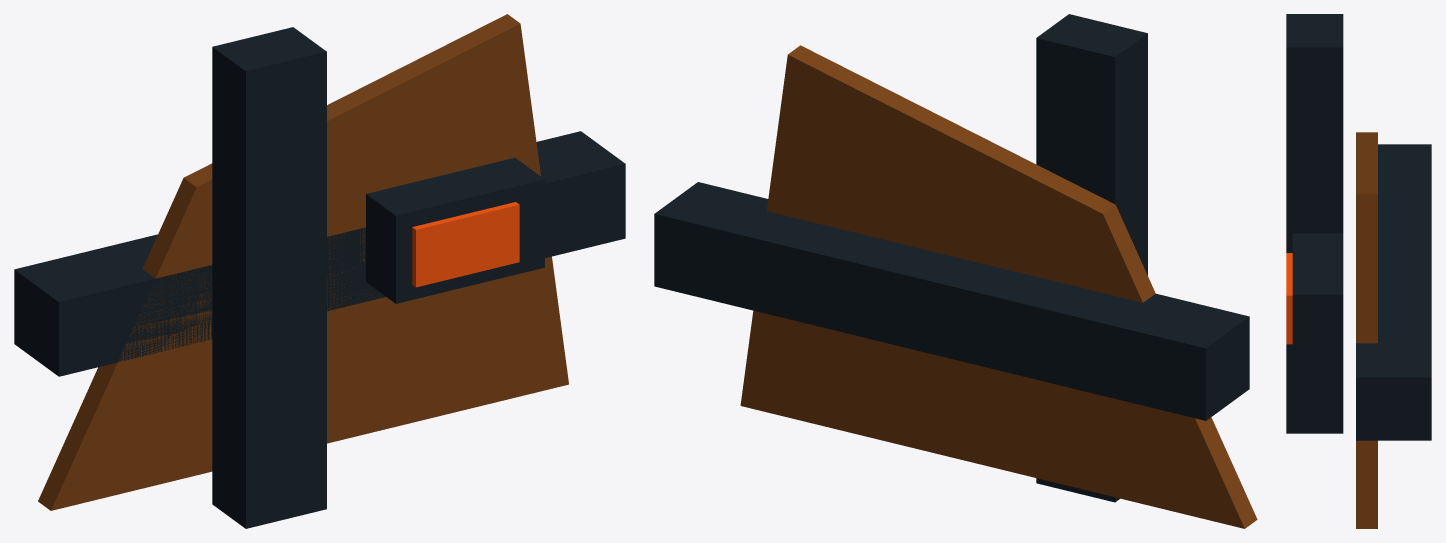
The model's file is SM_Debris.obj.
The picture shows the model from 3 angles, left to right: view 1: azimuth 30°, elevation 25°; view 2: azimuth 150°, elevation 25°; view 3: azimuth 270°, elevation 25°; orthographic projection. The views are drawn at different scales.
Visible parts, largest first — view 1: SM_Debris; view 2: SM_Debris; view 3: SM_Debris.
Part boxes in pixels (x1=…): SM_Debris: x1=14, y1=14, x2=625, y2=528; SM_Debris: x1=654, y1=14, x2=1257, y2=528; SM_Debris: x1=1286, y1=14, x2=1431, y2=528.
Size of the model in its own units: 178 by 135 by 46.
